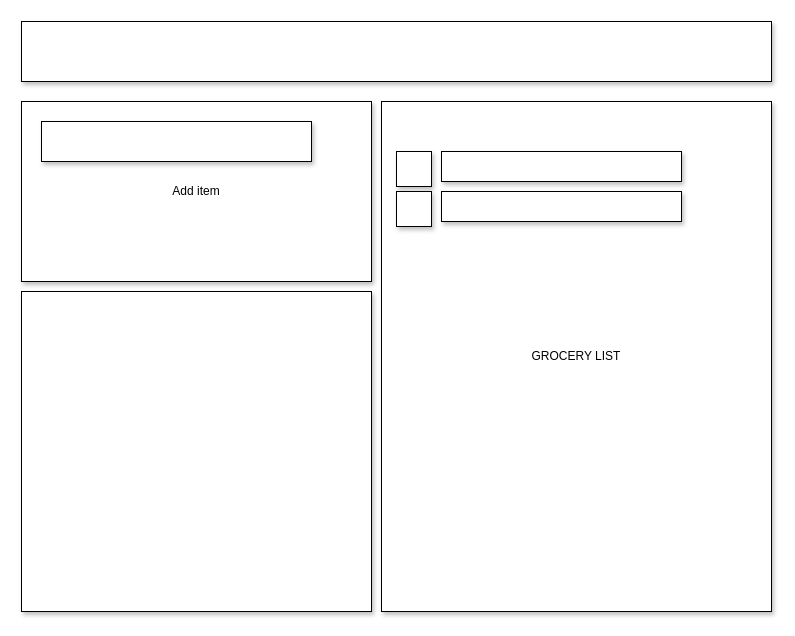
This 795x636 diagram has some shape labels left out. The centre of each missing label's shape, as x and y in pixels:
GOT MILK: (397,52)
Ingredients: (197,452)
